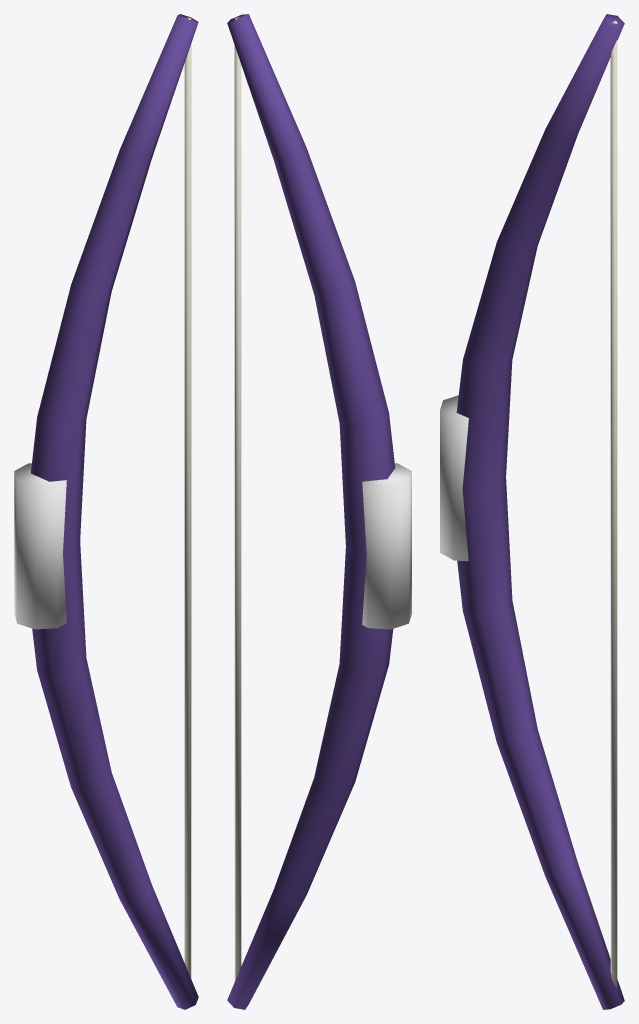
File: demonite_bow.glb
The picture shows the model from 3 angles, left to right: view 1: azimuth 30°, elevation 25°; view 2: azimuth 150°, elevation 25°; view 3: azimuth 330°, elevation 25°; orthographic projection.
Visible parts, largest first — view 1: demonite_bow_v0; view 2: demonite_bow_v0; view 3: demonite_bow_v0.
Boxes of the visible parts, x1=… form: demonite_bow_v0: x1=14, y1=14, x2=198, y2=1009; demonite_bow_v0: x1=227, y1=14, x2=411, y2=1009; demonite_bow_v0: x1=440, y1=14, x2=624, y2=1009.
Bounding box in the file's own units: 0.2105 × 1.11 × 0.06.
